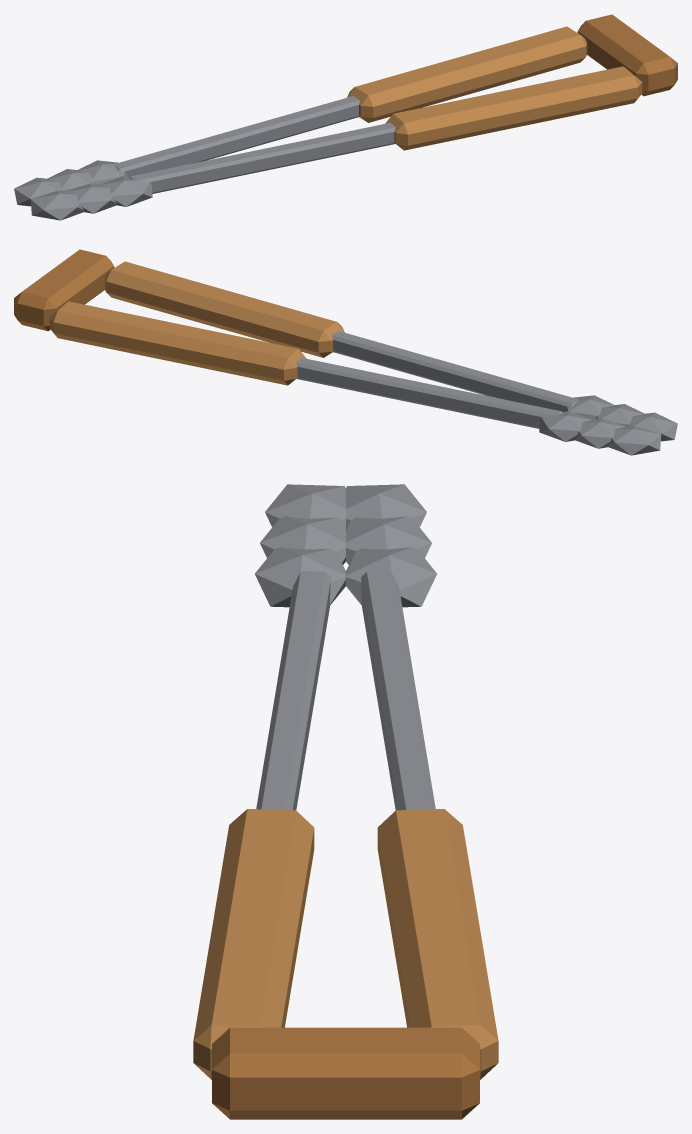
Rendered from pastry_tongs.glb.
3 renders of one model, top to bottom at view 1: azimuth 30°, elevation 25°; view 2: azimuth 150°, elevation 25°; view 3: azimuth 270°, elevation 25°, orthographic. The views are drawn at different scales.
Visible parts, largest first — view 1: pastry_tongs; view 2: pastry_tongs; view 3: pastry_tongs.
Boxes of the visible parts, left/top/right/bottom form: pastry_tongs: left=14, top=14, right=677, bottom=220; pastry_tongs: left=14, top=249, right=677, bottom=455; pastry_tongs: left=193, top=484, right=498, bottom=1119.
Size of the model in its own units: 0.2365 by 0.012 by 0.05.
